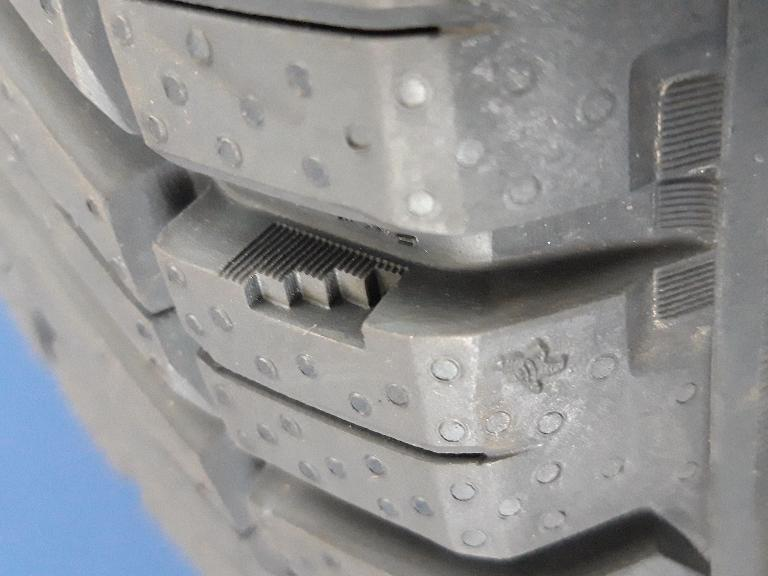temoin:100: (211, 215, 418, 360)
